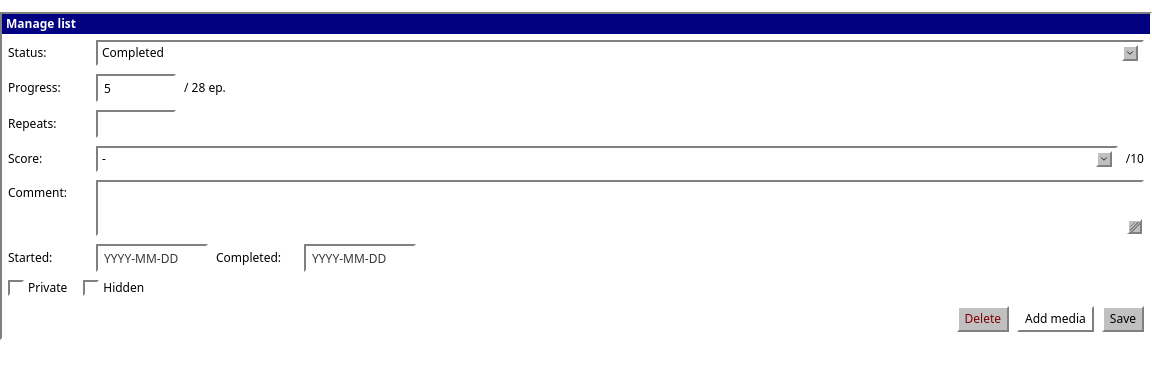
Test: AniListActionControls save diagnostics › shows the failure reason instead of a generic message
This screenshot has width=1152, height=381.
Click the button "Save": (1123, 319) [1102,306,1144,332]
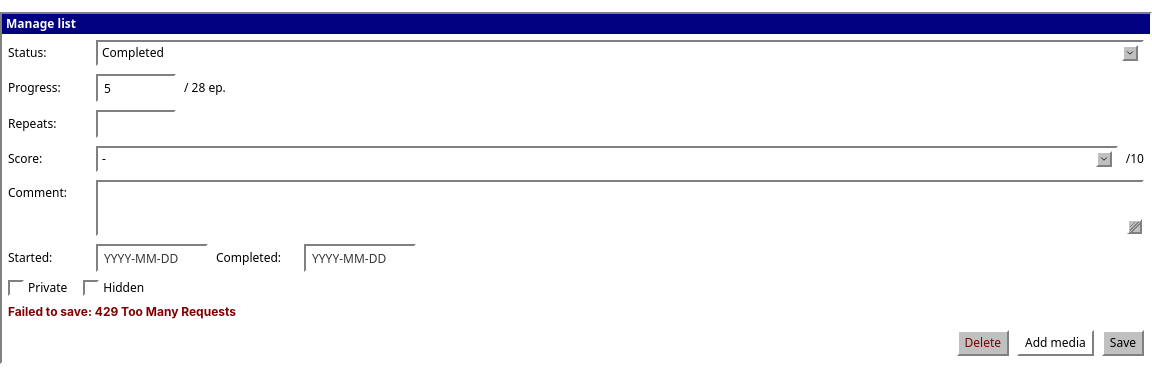
expect the text "Failed to save: 429 Too Many Requests" is shown: met, box [8,304,236,319]
